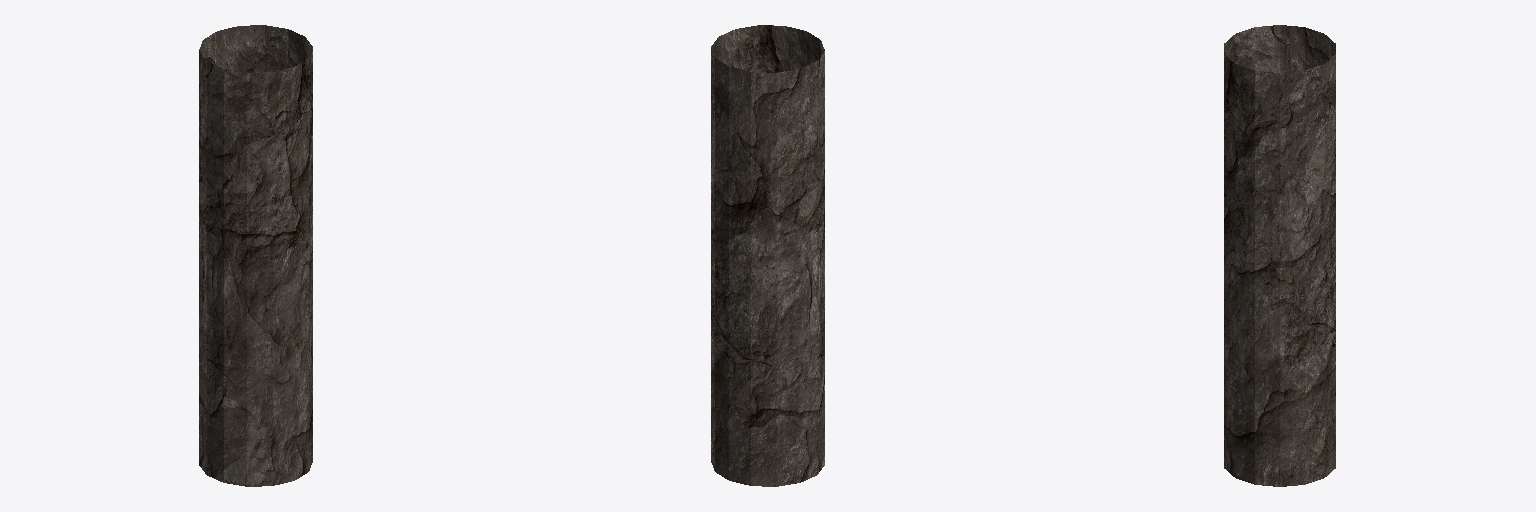
The picture shows the model from 3 angles: view 1: azimuth 30°, elevation 25°; view 2: azimuth 150°, elevation 25°; view 3: azimuth 270°, elevation 25°; orthographic projection.
Parts seen in each view (by area): view 1: Cylinder; view 2: Cylinder; view 3: Cylinder.
Boxes of the visible parts, x1=… form: Cylinder: x1=199, y1=25, x2=312, y2=486; Cylinder: x1=711, y1=25, x2=824, y2=486; Cylinder: x1=1224, y1=25, x2=1335, y2=486.
Bounding box in the file's own units: 100 × 400 × 97.49.
Materials: 1 (1 with a texture image).